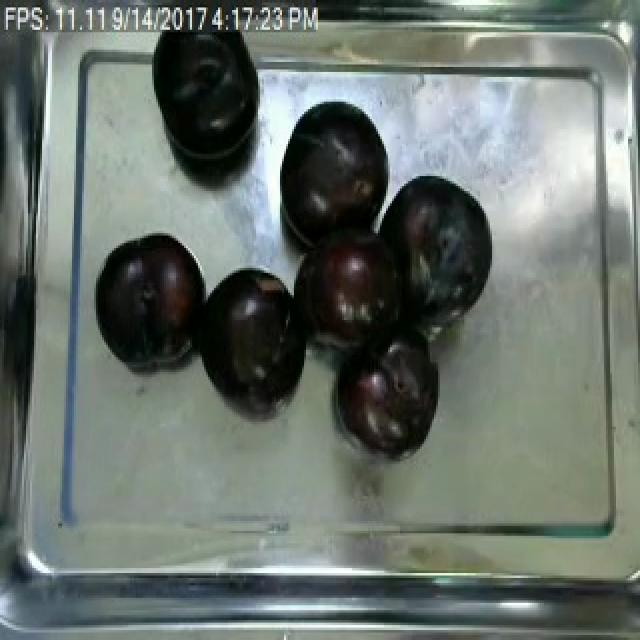Fruit: (378, 166, 500, 335), (270, 92, 394, 248), (146, 25, 266, 171), (90, 230, 210, 374), (182, 263, 304, 402), (330, 338, 440, 457)
